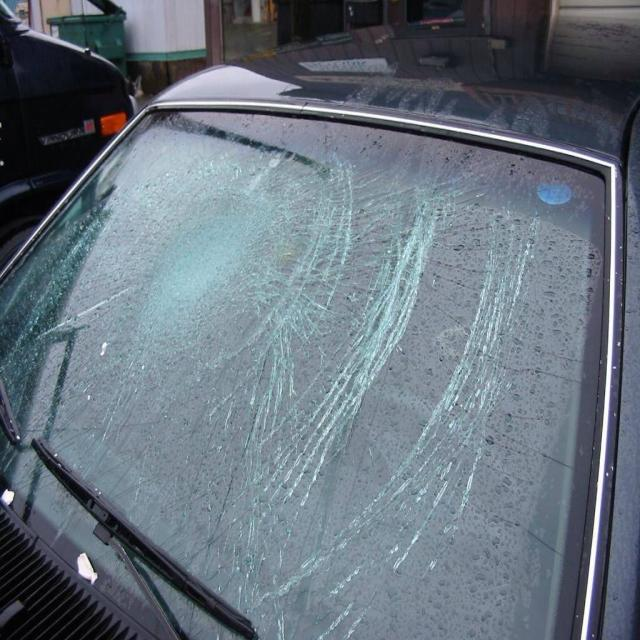crack: (185, 147, 547, 640)
